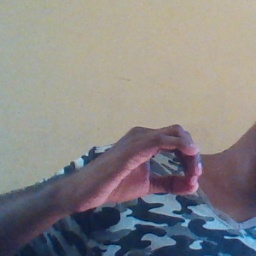O: (81, 117, 211, 212)
